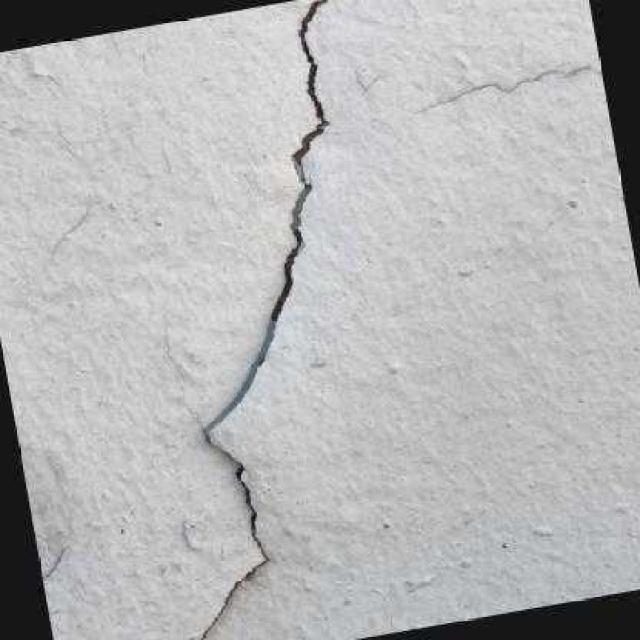D00: (196, 0, 329, 640)
